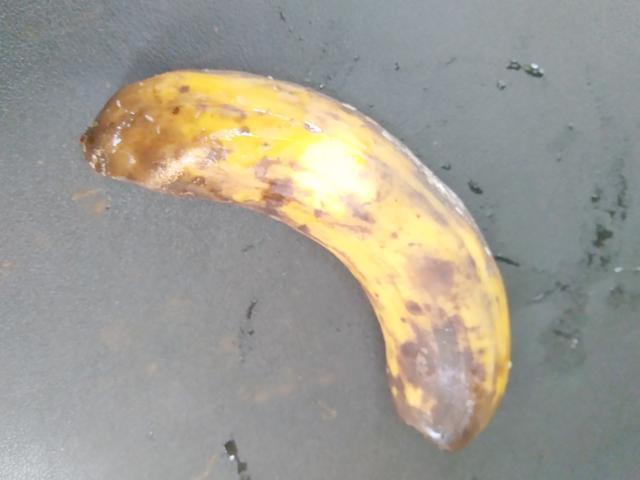rotten: (73, 47, 558, 479)
